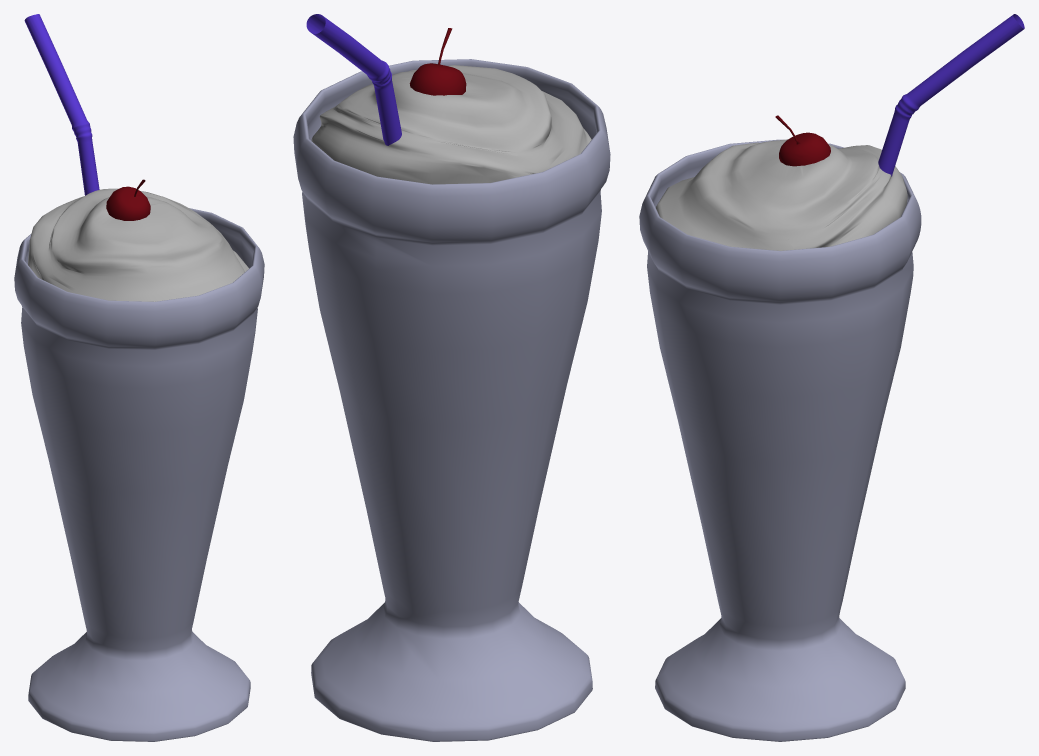
File: goldshake.fbx
The picture shows the model from 3 angles, left to right: view 1: azimuth 30°, elevation 25°; view 2: azimuth 150°, elevation 25°; view 3: azimuth 270°, elevation 25°; orthographic projection. The views are drawn at different scales.
Parts seen in each view (by area): view 1: revolvedSurface3, nurbsSphere2, nurbsCylinder1, nurbsSphere3; view 2: revolvedSurface3, nurbsSphere2, nurbsCylinder1, nurbsSphere3; view 3: revolvedSurface3, nurbsSphere2, nurbsCylinder1, nurbsSphere3.
Boxes of the visible parts, bbox=[...] form: revolvedSurface3: bbox=[14, 208, 264, 741]; nurbsSphere2: bbox=[28, 188, 248, 301]; nurbsCylinder1: bbox=[24, 14, 99, 195]; nurbsSphere3: bbox=[106, 186, 150, 220]; revolvedSurface3: bbox=[293, 59, 610, 741]; nurbsSphere2: bbox=[311, 65, 591, 184]; nurbsCylinder1: bbox=[306, 14, 401, 145]; nurbsSphere3: bbox=[409, 63, 466, 95]; revolvedSurface3: bbox=[639, 139, 921, 741]; nurbsSphere2: bbox=[656, 139, 907, 250]; nurbsCylinder1: bbox=[878, 14, 1024, 176]; nurbsSphere3: bbox=[779, 132, 830, 166].
Size of the model in its own units: 0.149 by 0.3931 by 0.2035.
